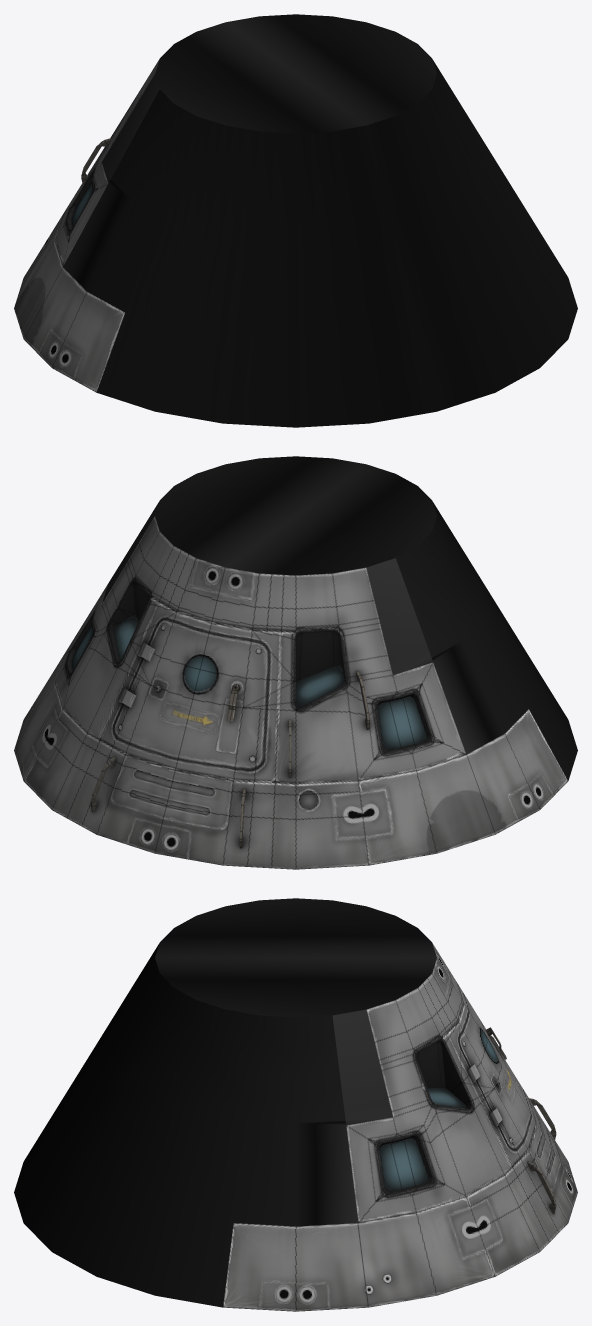
The model's file is NewCapsule_AOBake.obj.
3 views of the same model, one above another, from view 1: azimuth 30°, elevation 25°; view 2: azimuth 150°, elevation 25°; view 3: azimuth 270°, elevation 25° (orthographic).
Parts seen in each view (by area): view 1: Apollo_Capsule_Redux2; view 2: Apollo_Capsule_Redux2; view 3: Apollo_Capsule_Redux2.
Part boxes in pixels (bbox=[...]): Apollo_Capsule_Redux2: bbox=[14, 14, 577, 427]; Apollo_Capsule_Redux2: bbox=[14, 456, 577, 869]; Apollo_Capsule_Redux2: bbox=[14, 898, 577, 1311].
Bounding box in the file's own units: 250 × 115 × 250.
